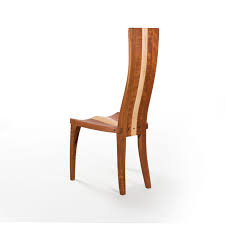tiyarina: (65, 24, 170, 201)
